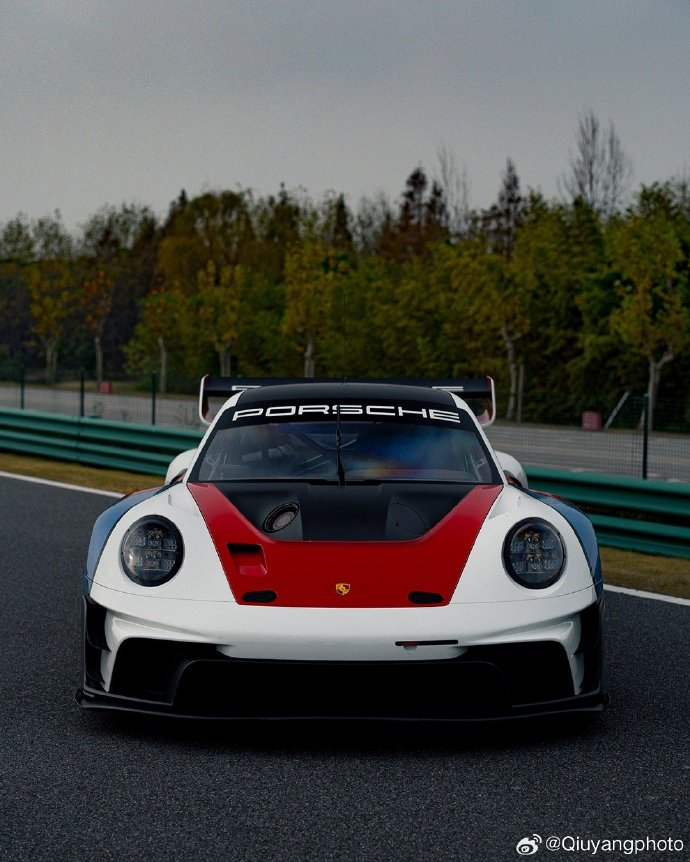other: (92, 364, 613, 730)
